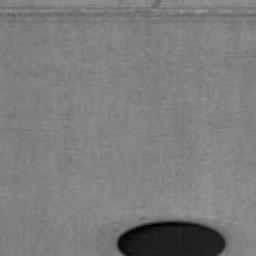Punching: (118, 220, 227, 256)
